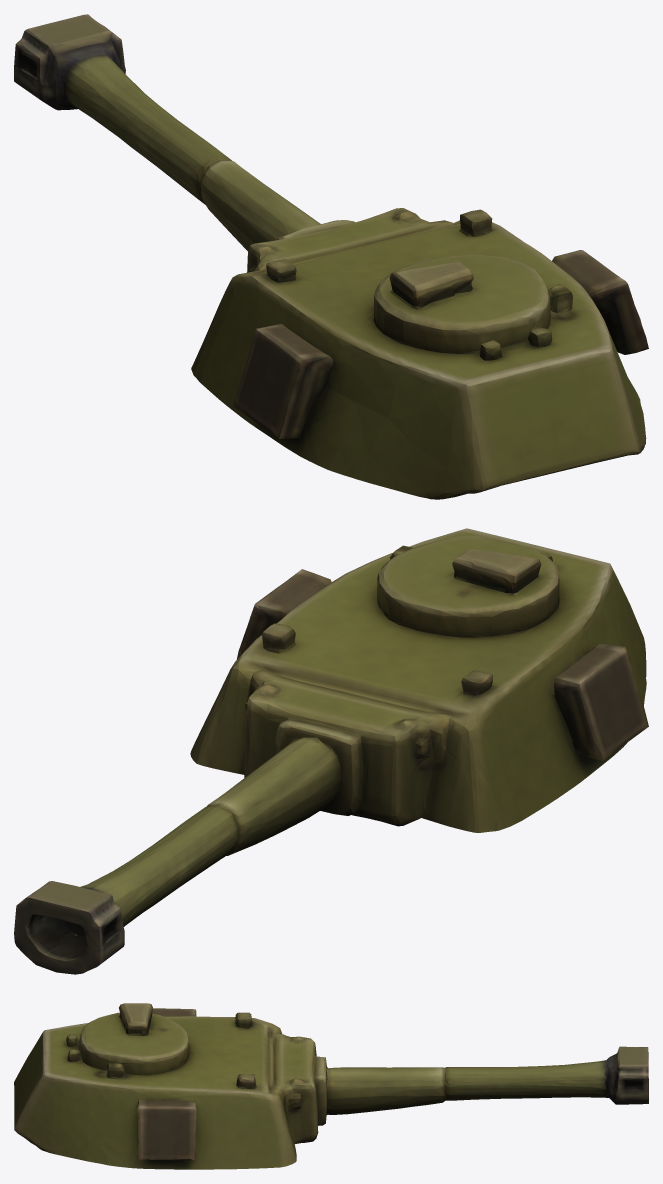
File: m4_sherman_turret.glb
3 renders of one model, top to bottom at view 1: azimuth 30°, elevation 25°; view 2: azimuth 150°, elevation 25°; view 3: azimuth 270°, elevation 25°, orthographic. The views are drawn at different scales.
Visible parts, largest first — view 1: turret; view 2: turret; view 3: turret.
Boxes of the visible parts, left/top/right/bottom form: turret: left=14, top=14, right=648, bottom=499; turret: left=14, top=528, right=648, bottom=974; turret: left=14, top=1003, right=648, bottom=1169.
Bounding box in the file's own units: 0.3238 × 0.129 × 0.7651.
Materials: 2 (1 with a texture image).
